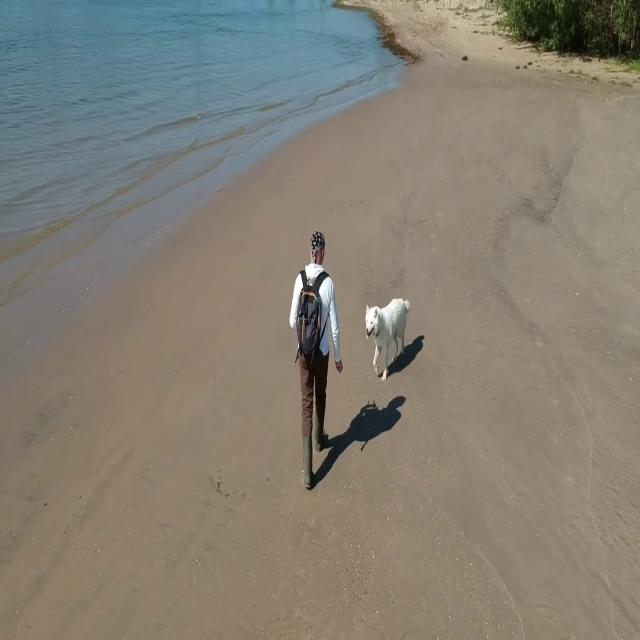Unleashed_Dog: (314, 297, 412, 450)
